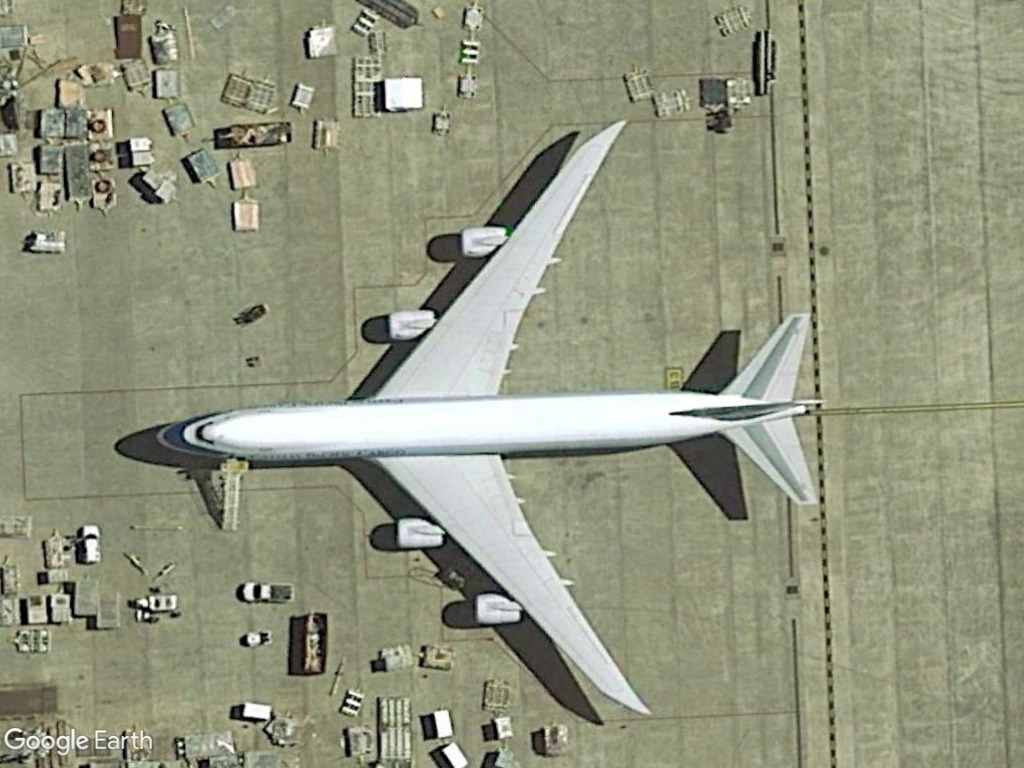airliner: (147, 116, 824, 721)
car: (79, 522, 105, 573)
other: (237, 576, 300, 607)
